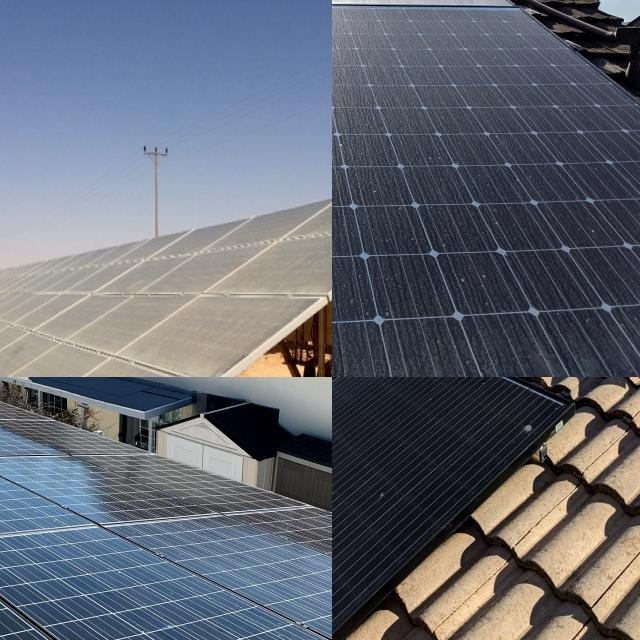dust: (465, 124, 640, 377), (332, 120, 447, 377), (332, 382, 460, 524), (332, 212, 435, 377), (332, 19, 435, 97), (460, 14, 534, 120), (168, 263, 242, 356), (332, 70, 383, 193), (56, 266, 130, 340), (332, 79, 378, 193), (332, 9, 432, 60), (0, 292, 29, 377), (272, 244, 332, 274)
